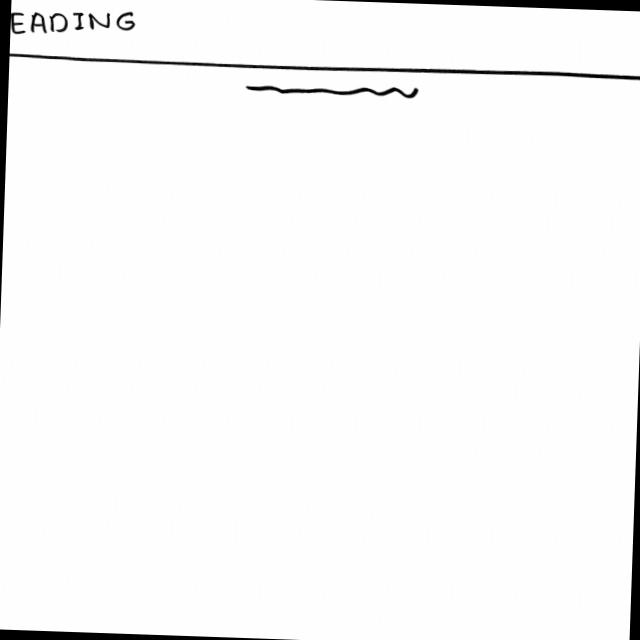label: (10, 3, 142, 42)
text: (243, 82, 421, 102)
